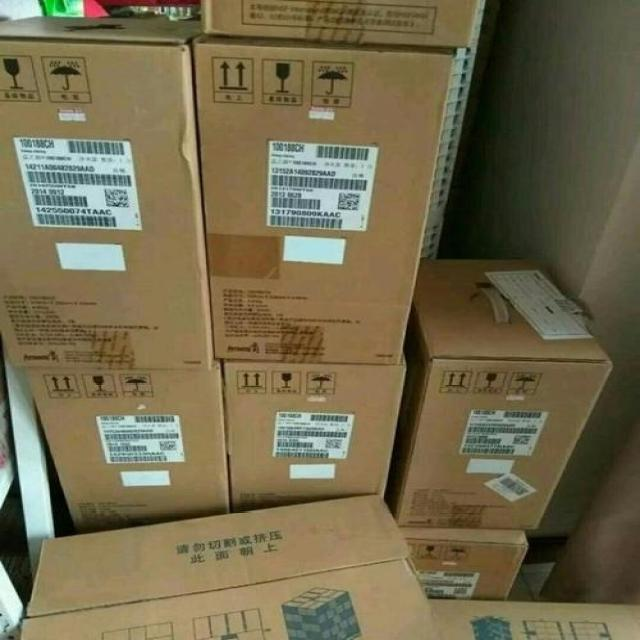box: (191, 31, 457, 365), (0, 16, 214, 368), (383, 259, 611, 529), (21, 494, 444, 639), (21, 357, 230, 534), (223, 354, 407, 514), (203, 0, 479, 48), (396, 528, 527, 601), (426, 598, 639, 639)
